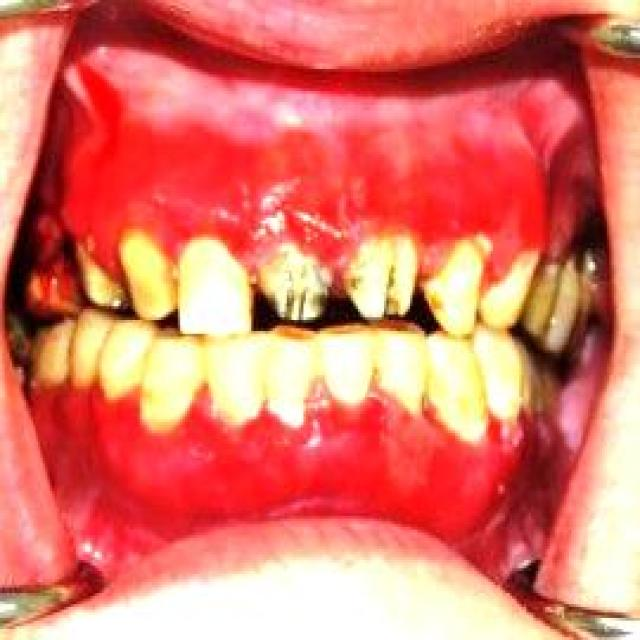caries: (346, 252, 416, 325), (263, 254, 331, 328)
